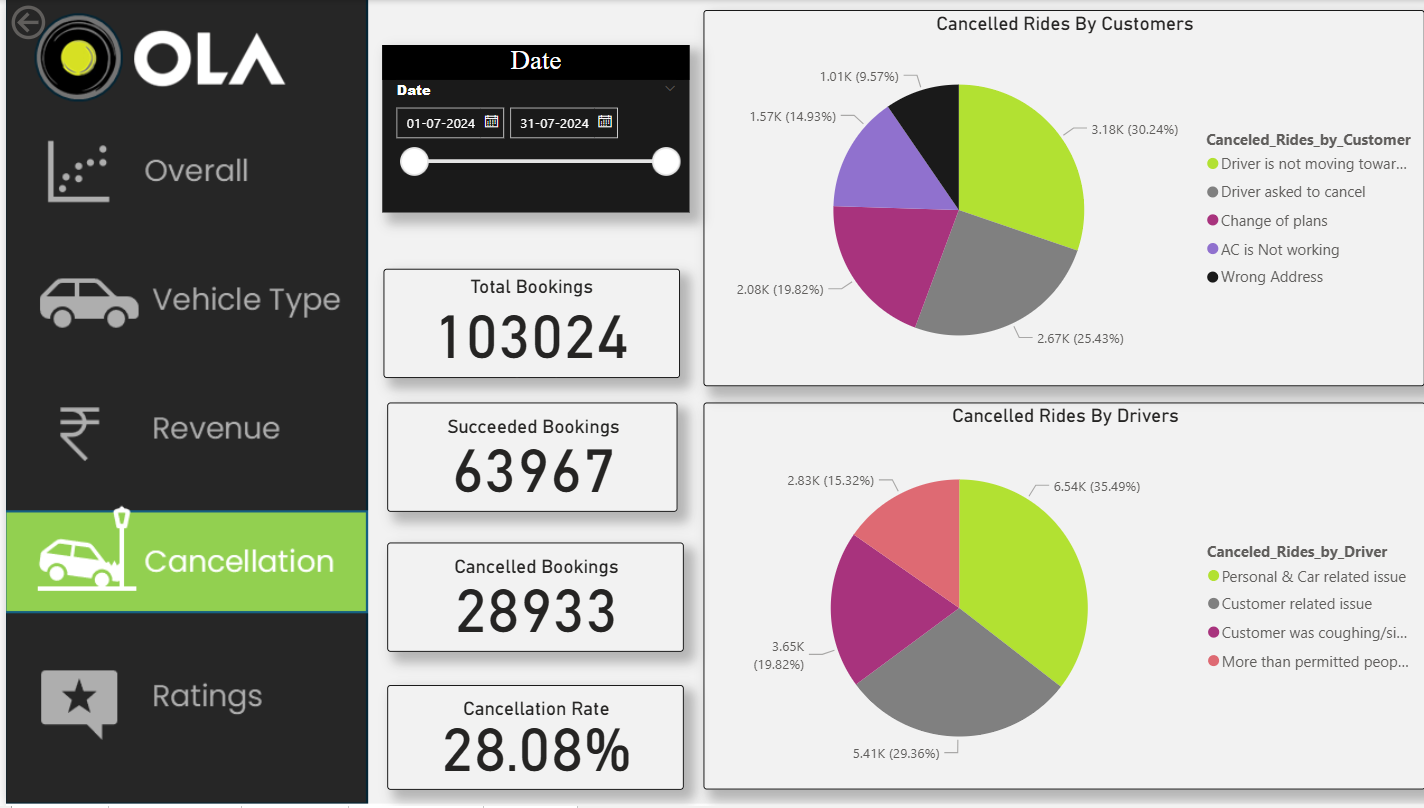

Layout of this report page (visuals, bound fields, positions):
{"tool":"powerbi","page":{"name":"Cancellation","canvas":[1280,720],"ordinal":3},"visuals":[{"type":"actionButton","box":[0,337.2,325.6,93],"z":0},{"type":"actionButton","box":[0,579.1,325.6,93],"z":1000},{"type":"actionButton","box":[0,225.6,325.6,93],"z":2000},{"type":"pieChart","title":"Cancelled Rides By Customers","fields":{"Category":["July (2).Canceled_Rides_by_Customer"],"Y":["CountNonNull(July (2).Canceled_Rides_by_Customer)"]},"box":[623.3,9.3,644.2,336],"z":3000},{"type":"pieChart","title":"Cancelled Rides By Drivers","fields":{"Category":["July (2).Canceled_Rides_by_Driver"],"Y":["CountNonNull(July (2).Canceled_Rides_by_Driver)"]},"box":[623,359.5,644.9,345.8],"z":4000},{"type":"slicer","title":"Date","fields":{"Values":["July (2).Date"]},"box":[336.2,39.8,274.4,149.6],"z":5000},{"type":"card","title":"Total Bookings","fields":{"Values":["Count(July (2).Booking_ID)"]},"box":[337.6,240.1,264.8,97.4],"z":6000},{"type":"card","title":"Succeeded Bookings","fields":{"Values":["Count(July (2).Booking_ID)"]},"box":[340.3,359.5,259.3,97.4],"z":7000},{"type":"actionButton","box":[0,0,100,40],"z":8000},{"type":"card","title":"Cancelled Bookings","fields":{"Values":["Count(July (2).Booking_ID)"]},"box":[340.3,484.4,264.8,97.4],"z":9000},{"type":"card","title":"Cancellation Rate","fields":{"Values":["July (2).Canceled Percentage"]},"box":[340.3,612,264.8,93.3],"z":10000}]}

Visuals, with their boxes on the page's 1280x720 design canvas (x1, y1, x2, y2). These are canvas units, not pixel positions in the 1424x808 screenshot, which may show the page scaled, cropped or inside an application window:
actionButton: (x1=0, y1=337, x2=326, y2=430)
actionButton: (x1=0, y1=579, x2=326, y2=672)
actionButton: (x1=0, y1=226, x2=326, y2=319)
"Cancelled Rides By Customers" pieChart: (x1=623, y1=9, x2=1268, y2=345)
"Cancelled Rides By Drivers" pieChart: (x1=623, y1=360, x2=1268, y2=705)
"Date" slicer: (x1=336, y1=40, x2=611, y2=189)
"Total Bookings" card: (x1=338, y1=240, x2=602, y2=338)
"Succeeded Bookings" card: (x1=340, y1=360, x2=600, y2=457)
actionButton: (x1=0, y1=0, x2=100, y2=40)
"Cancelled Bookings" card: (x1=340, y1=484, x2=605, y2=582)
"Cancellation Rate" card: (x1=340, y1=612, x2=605, y2=705)
